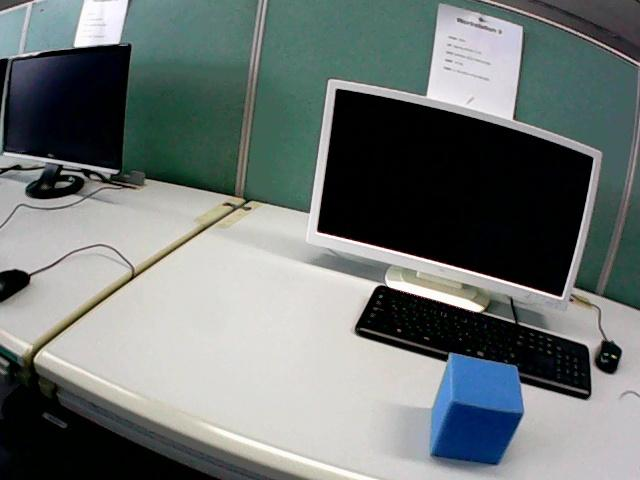blue_block: (430, 354, 523, 463)
